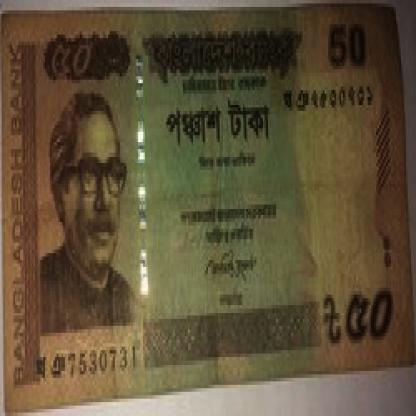Fifty taka: (320, 281, 401, 360), (47, 35, 103, 100)
